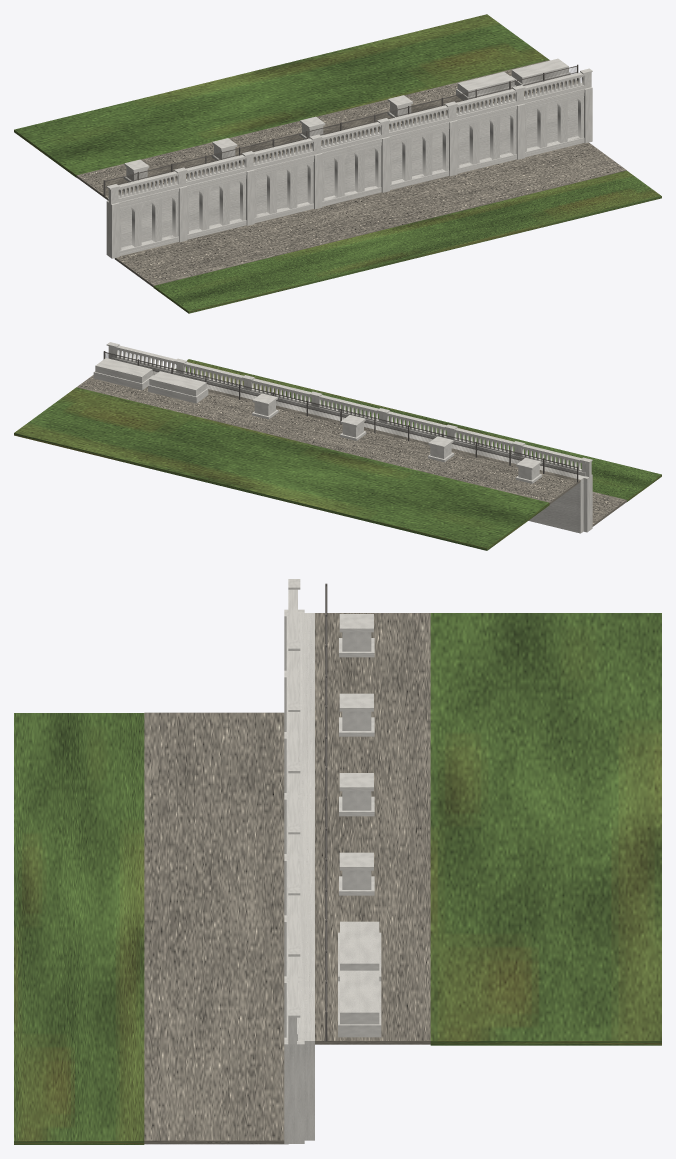
File: park-now-terrace-edge.glb
3 renders of one model, top to bottom at view 1: azimuth 30°, elevation 25°; view 2: azimuth 150°, elevation 25°; view 3: azimuth 270°, elevation 25°, orthographic. The views are drawn at different scales.
Visible parts, largest first — view 1: GrassTop, GravelForecourt, GrassForecourt, WallFrontPlate, WallBack, GravelTop, WallPilasters, ParapetPlate, WallPlinth, FenceMesh, ParapetBase, ParapetCoping (+7 smaller); view 2: GrassTop, GravelTop, GrassForecourt, ParapetPlate, FenceMesh, SphinxBases, WallBack, ParapetCoping, StatuePlinths, ParapetBase, CorniceHigh, ParapetPilasters (+5 smaller); view 3: GrassTop, GravelForecourt, GrassForecourt, GravelTop, WallBack, CorniceHigh, StatuePlinths, SphinxBases, WallPilasters, ParapetCoping, ParapetPilasters, FencePosts.
Part boxes in pixels (box(x1,y1,x2,y2)): GrassTop: box(14, 14, 549, 177); GravelForecourt: box(114, 142, 626, 287); GrassForecourt: box(153, 170, 661, 313); WallFrontPlate: box(119, 96, 583, 250); WallBack: box(107, 85, 577, 247); GravelTop: box(76, 60, 577, 199); WallPilasters: box(106, 87, 592, 258); ParapetPlate: box(118, 76, 583, 198); WallPlinth: box(119, 136, 584, 255); FenceMesh: box(105, 67, 576, 194); ParapetBase: box(115, 84, 587, 202); ParapetCoping: box(115, 72, 587, 189); GrassTop: box(14, 387, 549, 550); GravelTop: box(77, 375, 580, 504); GrassForecourt: box(175, 359, 661, 501); ParapetPlate: box(116, 349, 581, 471); FenceMesh: box(105, 352, 576, 480); SphinxBases: box(93, 358, 208, 403); WallBack: box(152, 371, 583, 533); ParapetCoping: box(112, 345, 585, 463); StatuePlinths: box(252, 393, 542, 483); ParapetBase: box(112, 357, 585, 476); CorniceHigh: box(152, 371, 583, 483); ParapetPilasters: box(106, 342, 592, 476); GrassTop: box(430, 613, 661, 1045); GravelForecourt: box(144, 712, 288, 1144); GrassForecourt: box(14, 713, 144, 1144); GravelTop: box(315, 613, 430, 1044); WallBack: box(300, 613, 314, 1140); CorniceHigh: box(286, 613, 314, 1046); StatuePlinths: box(339, 614, 374, 895); SphinxBases: box(338, 921, 381, 1037); WallPilasters: box(284, 609, 304, 1143); ParapetCoping: box(288, 589, 297, 1006); ParapetPilasters: box(288, 579, 300, 1044); FencePosts: box(325, 583, 327, 1041).
Bounding box in the file's own units: 35.71 × 5.1 × 22.4.
6 materials, 5 textured.
